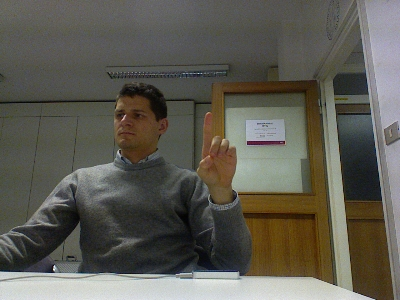食指: (196, 111, 237, 190)
